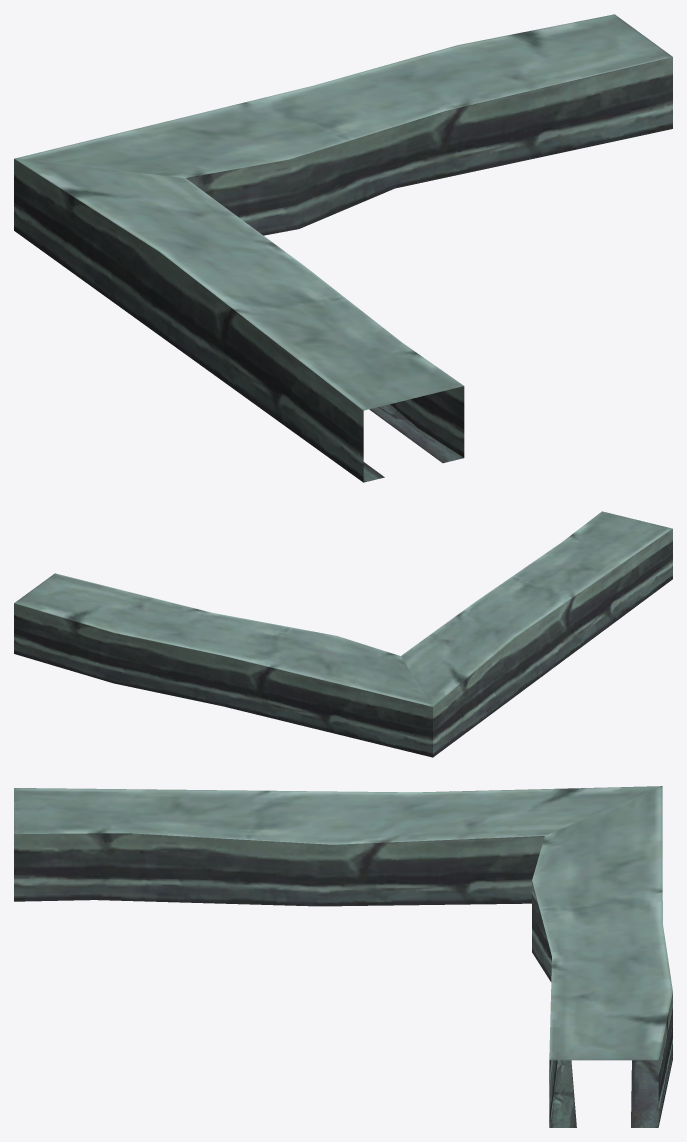
The model's file is crypt_cap_concave_01.fbx.
The picture shows the model from 3 angles, top to bottom: view 1: azimuth 30°, elevation 25°; view 2: azimuth 150°, elevation 25°; view 3: azimuth 270°, elevation 25°; orthographic projection. The views are drawn at different scales.
Visible parts, largest first — view 1: crypt_cap_concave_01-0; view 2: crypt_cap_concave_01-0; view 3: crypt_cap_concave_01-0.
Part boxes in pixels (box(x1,y1,x2,y2)): crypt_cap_concave_01-0: box(14, 14, 672, 482); crypt_cap_concave_01-0: box(14, 511, 672, 757); crypt_cap_concave_01-0: box(14, 786, 672, 1127).
Size of the model in its own units: 4.4 by 0.5074 by 4.47.
